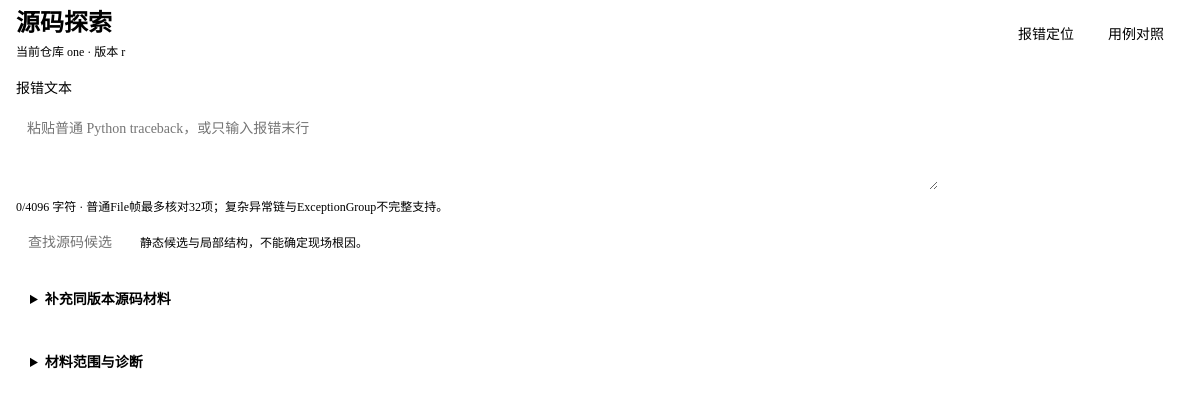
Test case: source exploration state and source identity › explains absent snapshot tests and allows a failed feature to leave the page
Click the button "用例对照" at [1136, 35], box top-left (1096, 17), bottom-right (1176, 53)
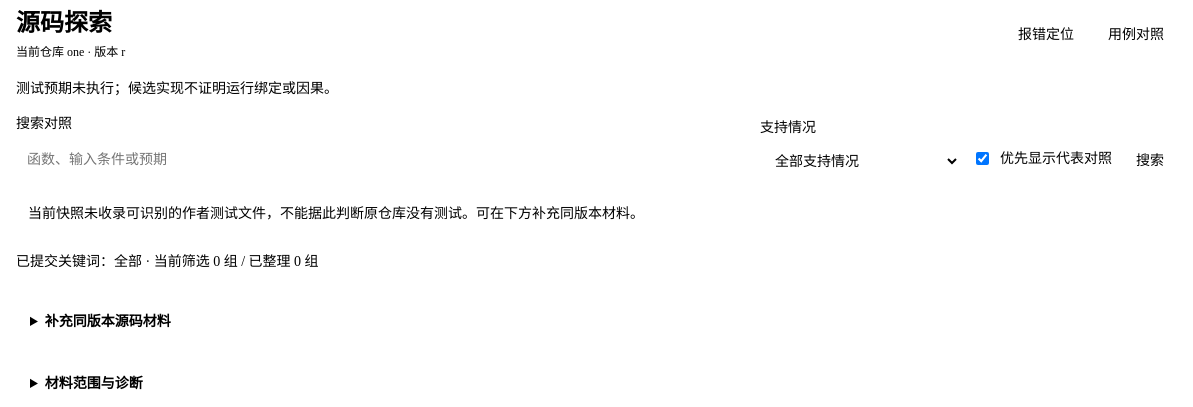
expect the text "不能据此判断原仓库没有测试" is shown: met, box top-left (28, 206), bottom-right (644, 221)
Click the button "搜索" at [1150, 161], box top-left (1124, 143), bottom-right (1176, 179)
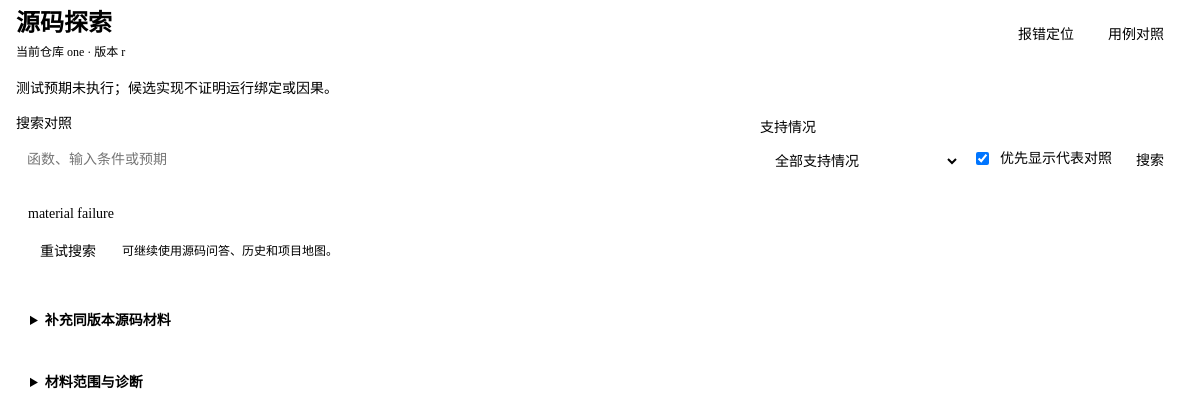
expect the message "material failure 重试搜索 可继续使用源码问答、历史和项目地图。" is shown: met, box top-left (28, 206), bottom-right (338, 270)
Click the button "报错定位" at [1046, 35], box top-left (1006, 17), bottom-right (1086, 53)
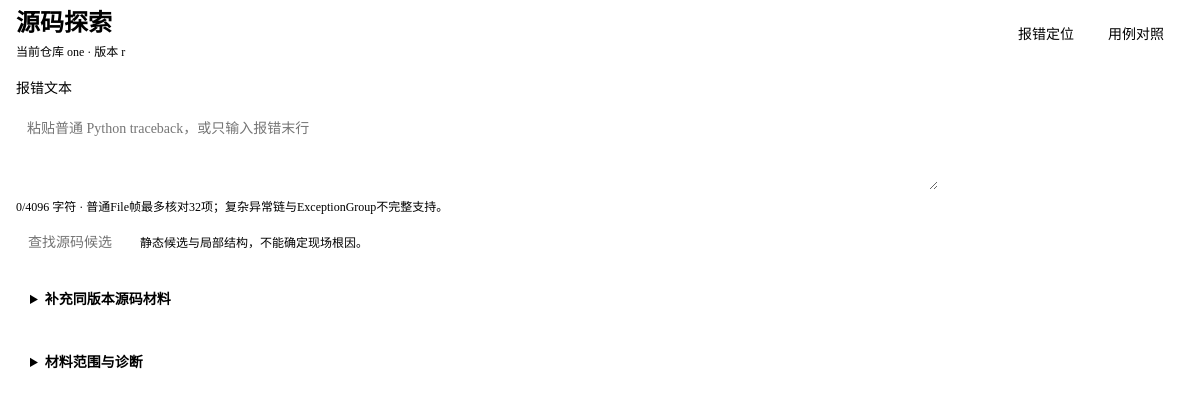
expect the text box labelled "报错文本" is shown: met, box top-left (16, 109), bottom-right (938, 190)
